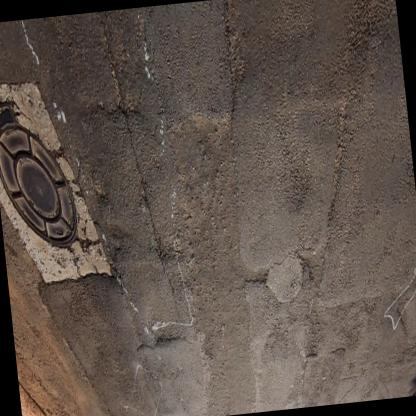manholes: (0, 76, 84, 265)
